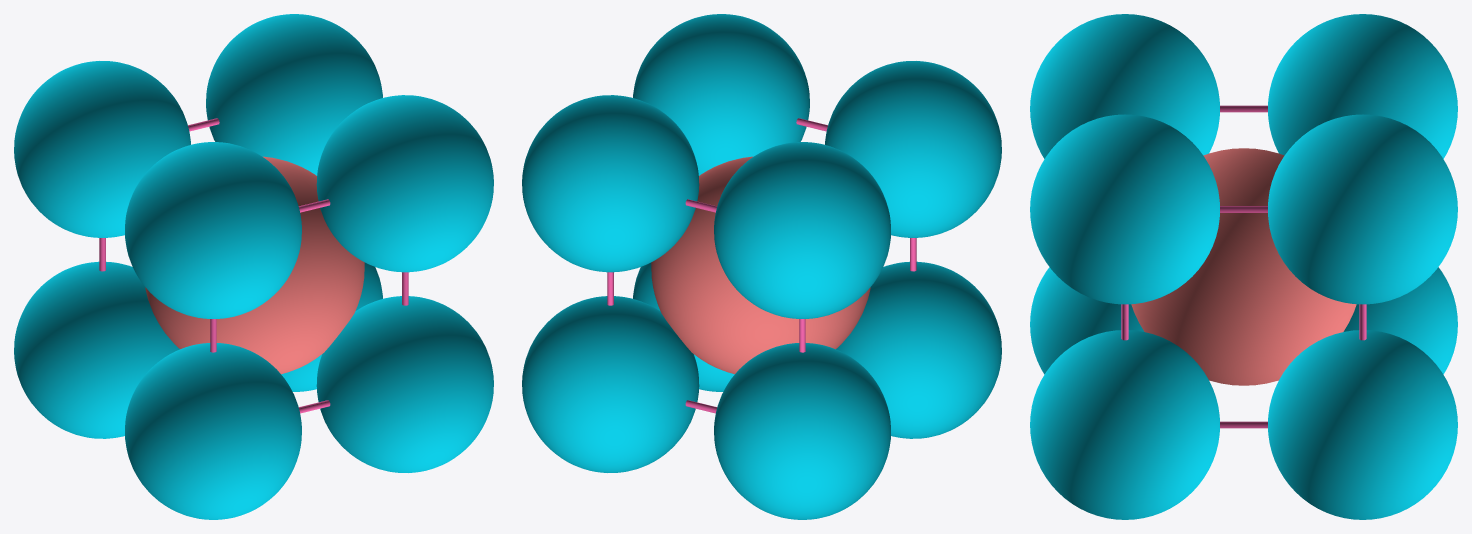
Rendered from res_10283.glb.
The picture shows the model from 3 angles, left to right: view 1: azimuth 30°, elevation 25°; view 2: azimuth 150°, elevation 25°; view 3: azimuth 270°, elevation 25°; orthographic projection. The views are drawn at different scales.
Visible parts, largest first — view 1: imagetostl_mesh24, imagetostl_mesh22, imagetostl_mesh36, imagetostl_mesh32, imagetostl_mesh20, imagetostl_mesh26, imagetostl_mesh28, imagetostl_mesh34, imagetostl_mesh25, imagetostl_mesh33, imagetostl_mesh37, imagetostl_mesh23 (+5 smaller); view 2: imagetostl_mesh20, imagetostl_mesh28, imagetostl_mesh26, imagetostl_mesh30, imagetostl_mesh24, imagetostl_mesh36, imagetostl_mesh22, imagetostl_mesh34, imagetostl_mesh21, imagetostl_mesh31, imagetostl_mesh29, imagetostl_mesh27 (+5 smaller); view 3: imagetostl_mesh28, imagetostl_mesh22, imagetostl_mesh30, imagetostl_mesh32, imagetostl_mesh34, imagetostl_mesh20, imagetostl_mesh24, imagetostl_mesh29, imagetostl_mesh23, imagetostl_mesh33, imagetostl_mesh31, imagetostl_mesh35 (+6 smaller).
Boxes of the visible parts, bbox=[...] form: imagetostl_mesh24: bbox=[125, 142, 301, 318]; imagetostl_mesh22: bbox=[316, 95, 493, 272]; imagetostl_mesh36: bbox=[125, 343, 301, 519]; imagetostl_mesh32: bbox=[316, 296, 493, 472]; imagetostl_mesh20: bbox=[14, 61, 190, 237]; imagetostl_mesh26: bbox=[14, 261, 179, 438]; imagetostl_mesh28: bbox=[206, 14, 382, 175]; imagetostl_mesh34: bbox=[145, 156, 364, 373]; imagetostl_mesh25: bbox=[125, 142, 301, 318]; imagetostl_mesh33: bbox=[317, 296, 493, 472]; imagetostl_mesh37: bbox=[125, 343, 301, 519]; imagetostl_mesh23: bbox=[317, 95, 493, 271]; imagetostl_mesh20: bbox=[714, 142, 890, 318]; imagetostl_mesh28: bbox=[522, 95, 699, 272]; imagetostl_mesh26: bbox=[714, 343, 890, 519]; imagetostl_mesh30: bbox=[522, 296, 699, 472]; imagetostl_mesh24: bbox=[825, 61, 1001, 237]; imagetostl_mesh36: bbox=[836, 261, 1001, 438]; imagetostl_mesh22: bbox=[633, 14, 809, 175]; imagetostl_mesh34: bbox=[651, 156, 870, 374]; imagetostl_mesh21: bbox=[714, 142, 890, 318]; imagetostl_mesh31: bbox=[522, 296, 698, 472]; imagetostl_mesh29: bbox=[522, 95, 698, 271]; imagetostl_mesh27: bbox=[714, 343, 890, 519]; imagetostl_mesh28: bbox=[1268, 114, 1457, 304]; imagetostl_mesh22: bbox=[1030, 114, 1219, 304]; imagetostl_mesh30: bbox=[1268, 330, 1457, 519]; imagetostl_mesh32: bbox=[1030, 330, 1219, 519]; imagetostl_mesh34: bbox=[1131, 148, 1356, 385]; imagetostl_mesh20: bbox=[1268, 14, 1457, 158]; imagetostl_mesh24: bbox=[1030, 14, 1219, 158]; imagetostl_mesh29: bbox=[1268, 115, 1457, 303]; imagetostl_mesh23: bbox=[1030, 115, 1219, 304]; imagetostl_mesh33: bbox=[1030, 331, 1219, 519]; imagetostl_mesh31: bbox=[1268, 330, 1457, 519]; imagetostl_mesh35: bbox=[1132, 148, 1356, 385].
Bounding box in the file's own units: 1.8 × 1.8 × 1.8.
